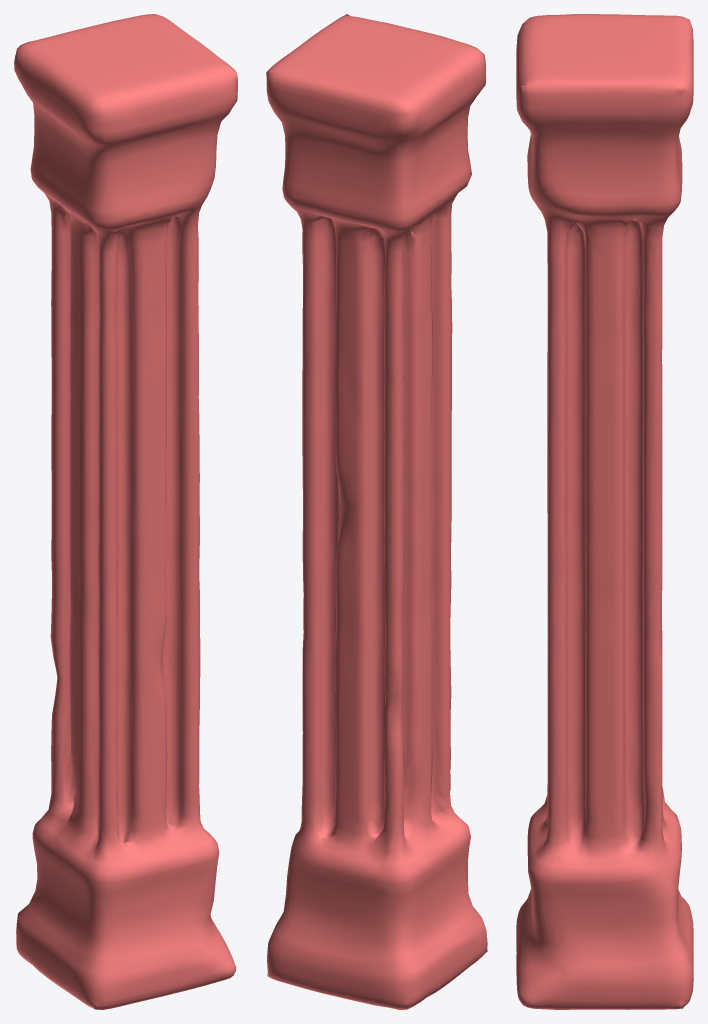
Rendered from arch02-1.fbx.
3 renders of one model, left to right at view 1: azimuth 30°, elevation 25°; view 2: azimuth 150°, elevation 25°; view 3: azimuth 270°, elevation 25°, orthographic.
Parts seen in each view (by area): view 1: pasted__pasted__pCube8; view 2: pasted__pasted__pCube8; view 3: pasted__pasted__pCube8.
Boxes of the visible parts, x1,y1,x2,y2 form: pasted__pasted__pCube8: [14, 14, 237, 1009]; pasted__pasted__pCube8: [266, 14, 487, 1009]; pasted__pasted__pCube8: [516, 14, 693, 1009].
Bounding box in the file's own units: 0.9983 × 5.79 × 0.9982.
